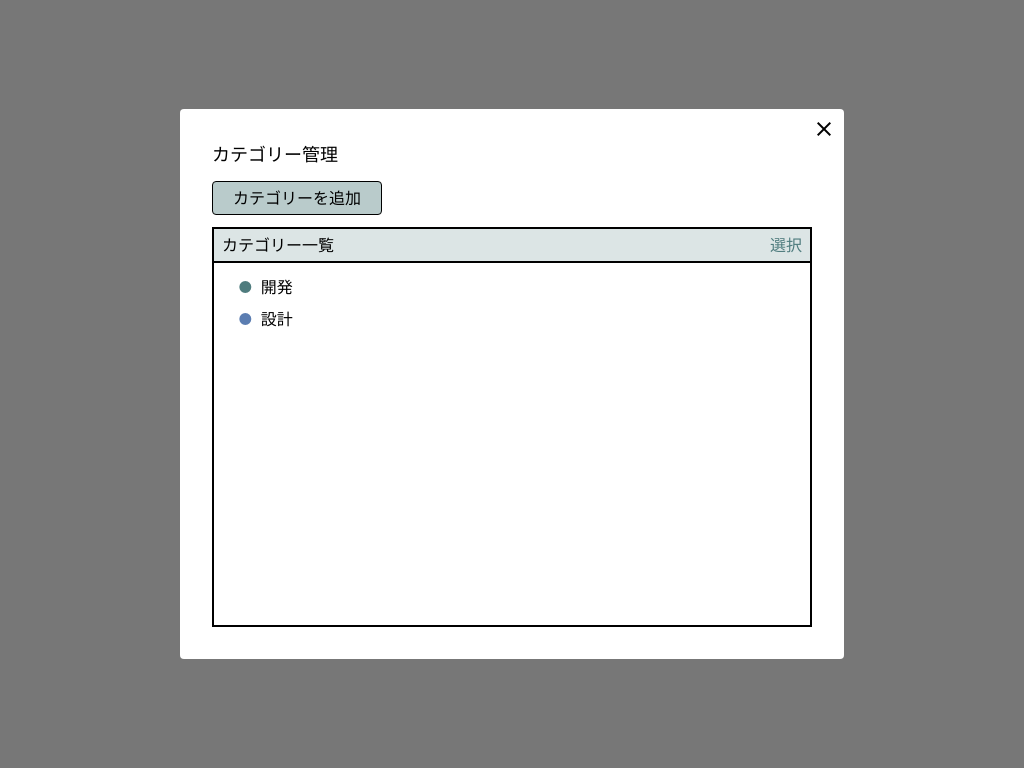
Test: CategoryModal（選択して削除） › 選択モードを抜けると選択が消える
Click the button "選択".
click(786, 245)  # box [770,233,802,257]
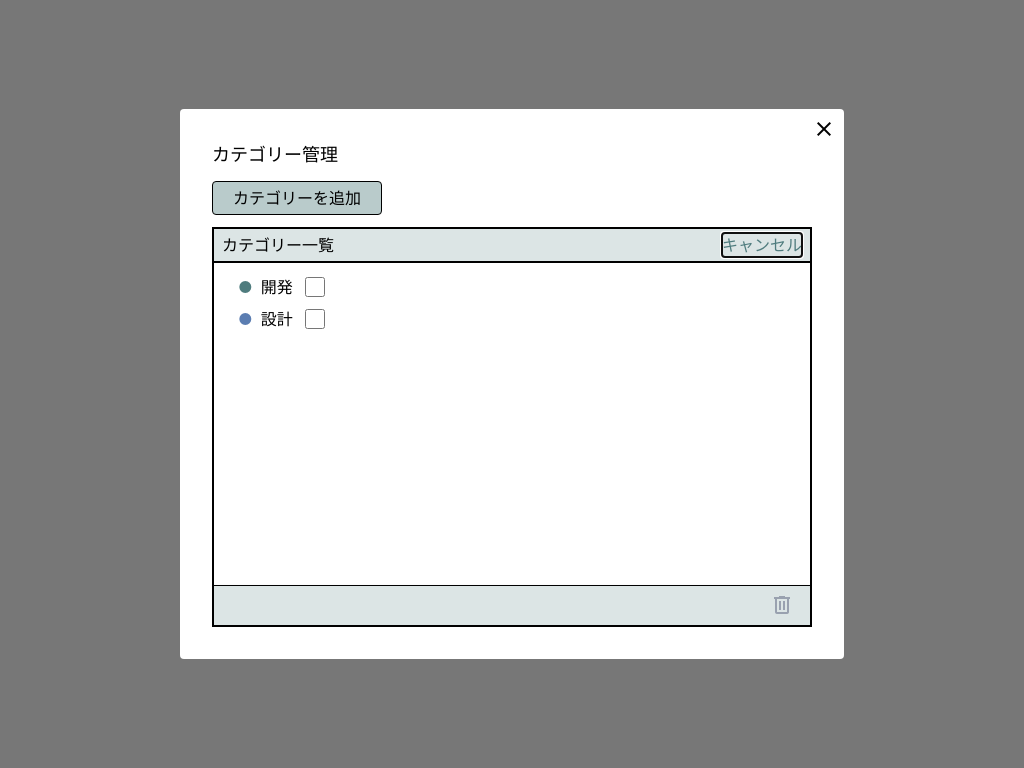
Click the 1st checkbox.
click(315, 287)  # box [305,277,325,297]
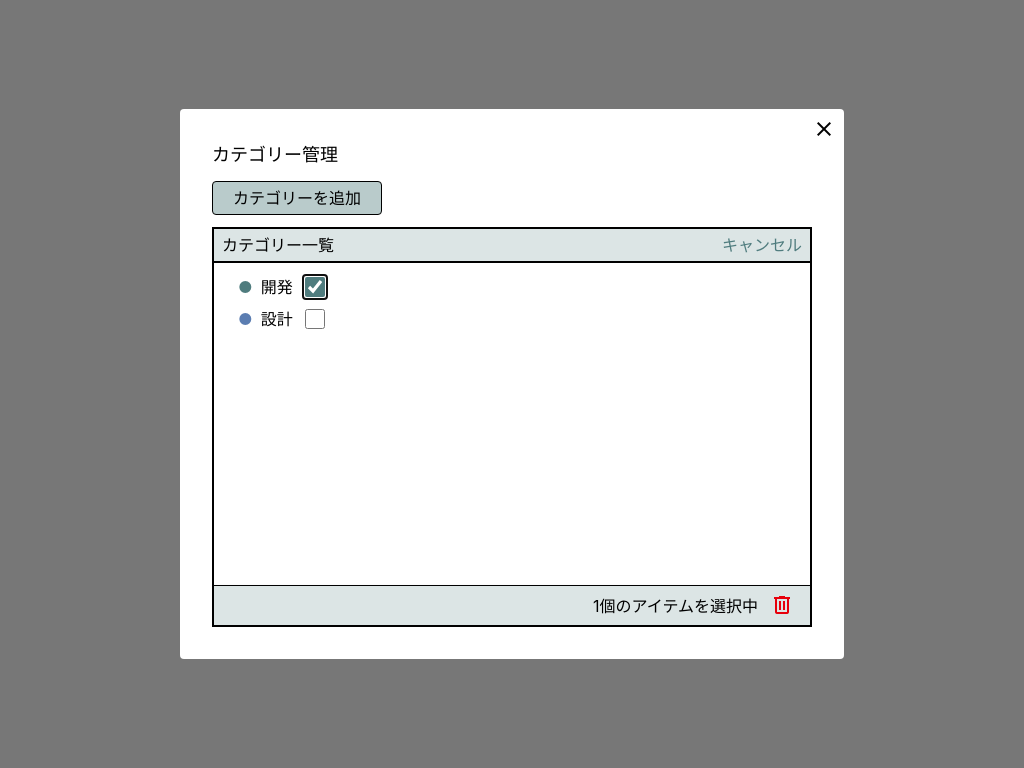
Expected: the 1st checkbox is checked, [305,277,325,297]
// 選択モードを抜けて、もう一度入る
Click the button "キャンセル".
click(762, 245)  # box [722,233,802,257]
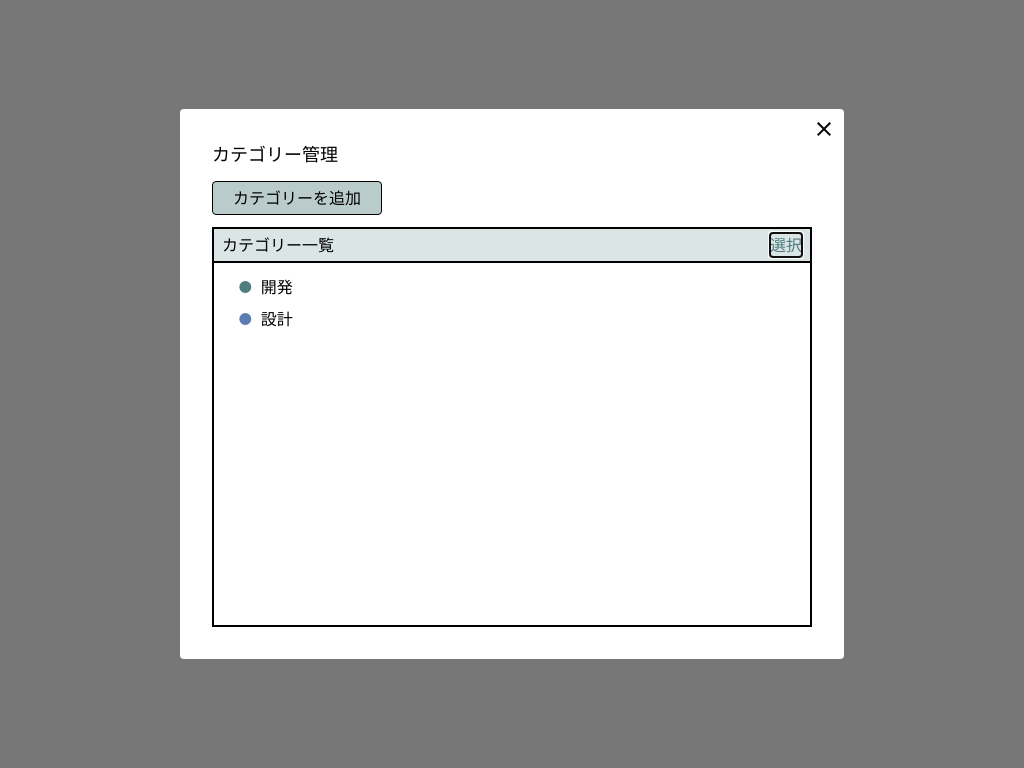
Click the button "選択".
click(786, 245)  # box [770,233,802,257]
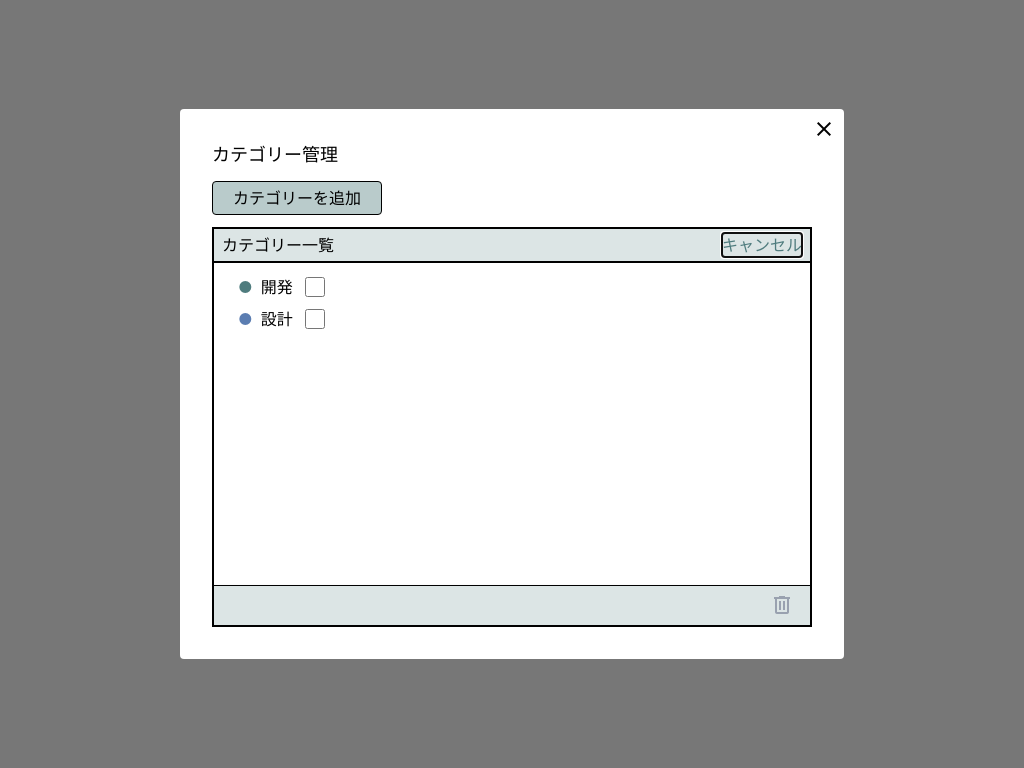
Expected: the 1st checkbox is not checked, [305,277,325,297]
